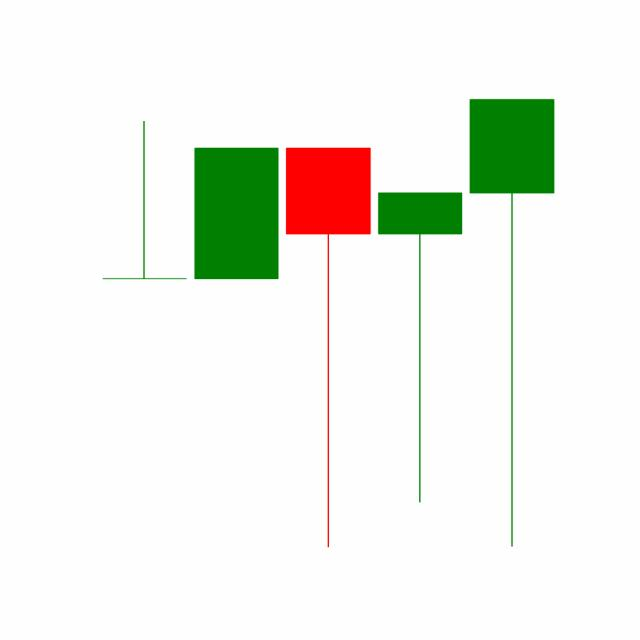Hanging Man: (464, 93, 558, 551)
